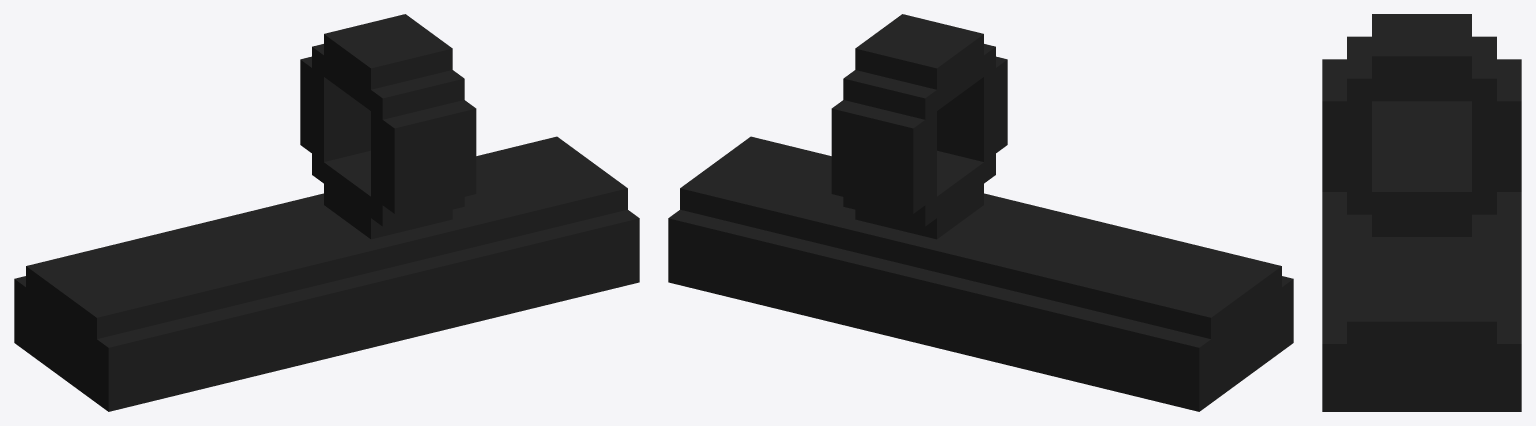
Rendered from Punisher-4.obj.
3 views of the same model, side by side, from view 1: azimuth 30°, elevation 25°; view 2: azimuth 150°, elevation 25°; view 3: azimuth 270°, elevation 25° (orthographic). The views are drawn at different scales.
Bounding box in the file's own units: 2.6 × 1.2 × 0.8.
1 material, 1 textured.
